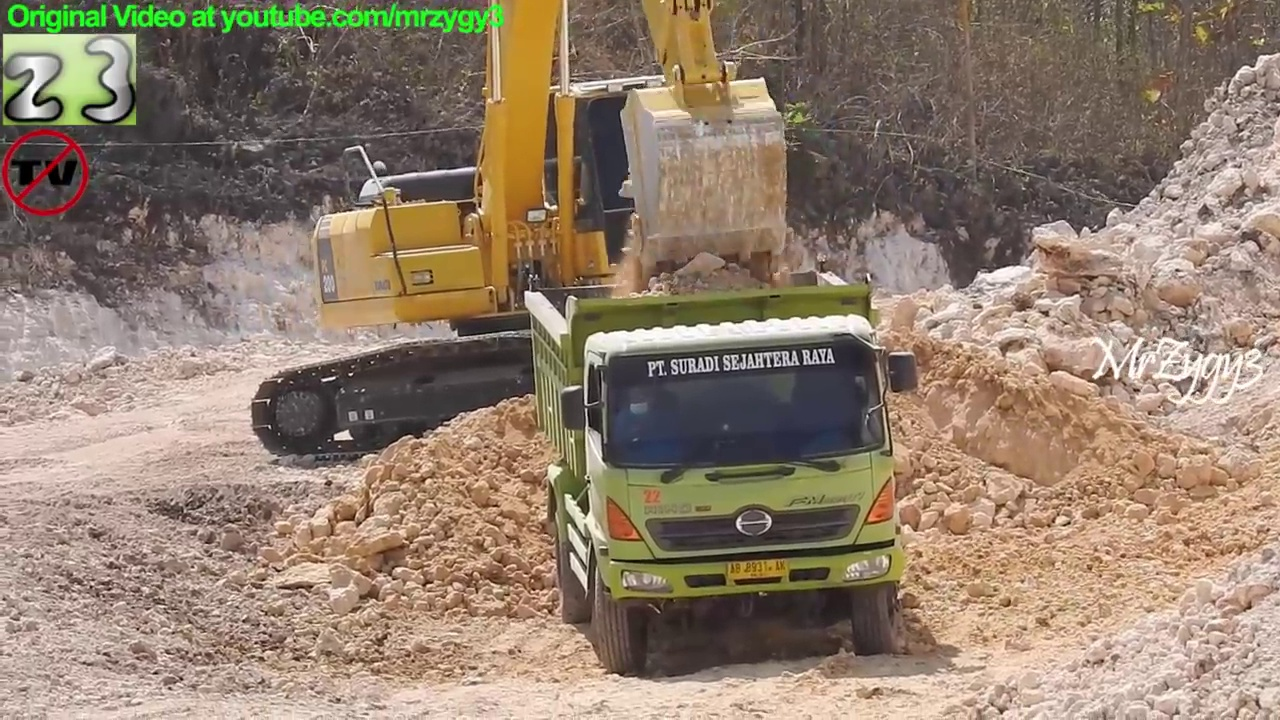excavator: (246, 1, 885, 469)
truck: (520, 250, 927, 682)
